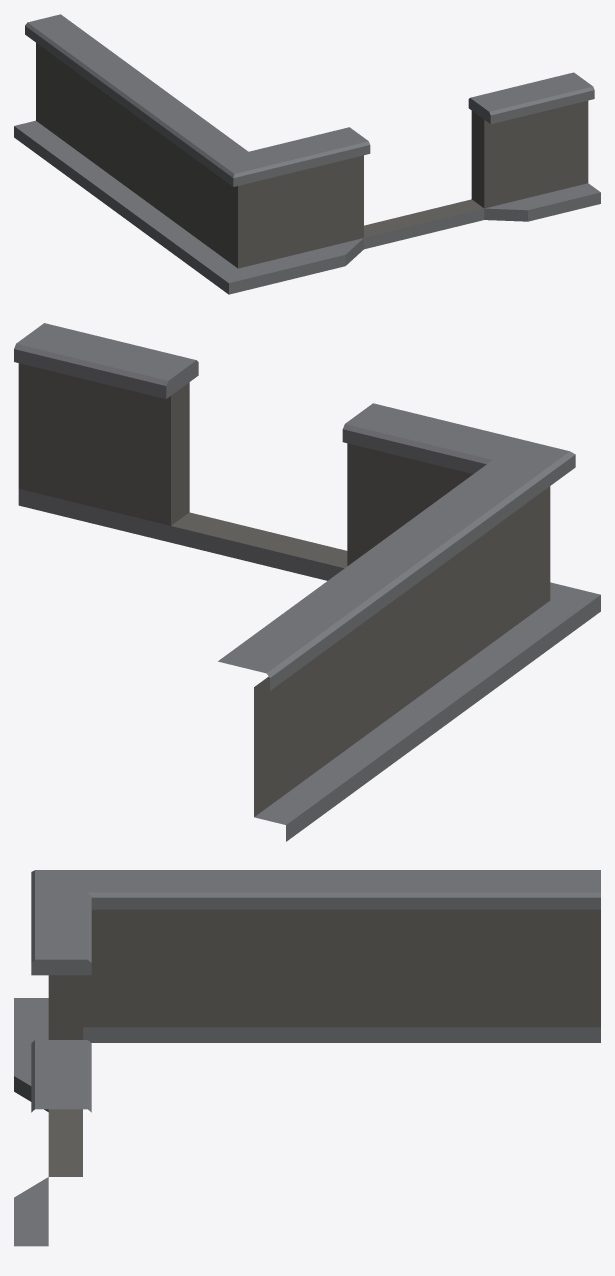
Rendered from SM_Roof_Corner_Out_Ladder_R.gltf.
3 views of the same model, one above another, from view 1: azimuth 30°, elevation 25°; view 2: azimuth 150°, elevation 25°; view 3: azimuth 270°, elevation 25° (orthographic). The views are drawn at different scales.
Visible parts, largest first — view 1: SM_Roof_Corner_Out_Ladder_R; view 2: SM_Roof_Corner_Out_Ladder_R; view 3: SM_Roof_Corner_Out_Ladder_R.
Boxes of the visible parts, x1=… form: SM_Roof_Corner_Out_Ladder_R: x1=14, y1=14, x2=600, y2=294; SM_Roof_Corner_Out_Ladder_R: x1=14, y1=323, x2=600, y2=841; SM_Roof_Corner_Out_Ladder_R: x1=14, y1=870, x2=600, y2=1246.
Bounding box in the file's own units: 3.4 × 0.9755 × 3.4.
Materials: 1 (1 with a texture image).
